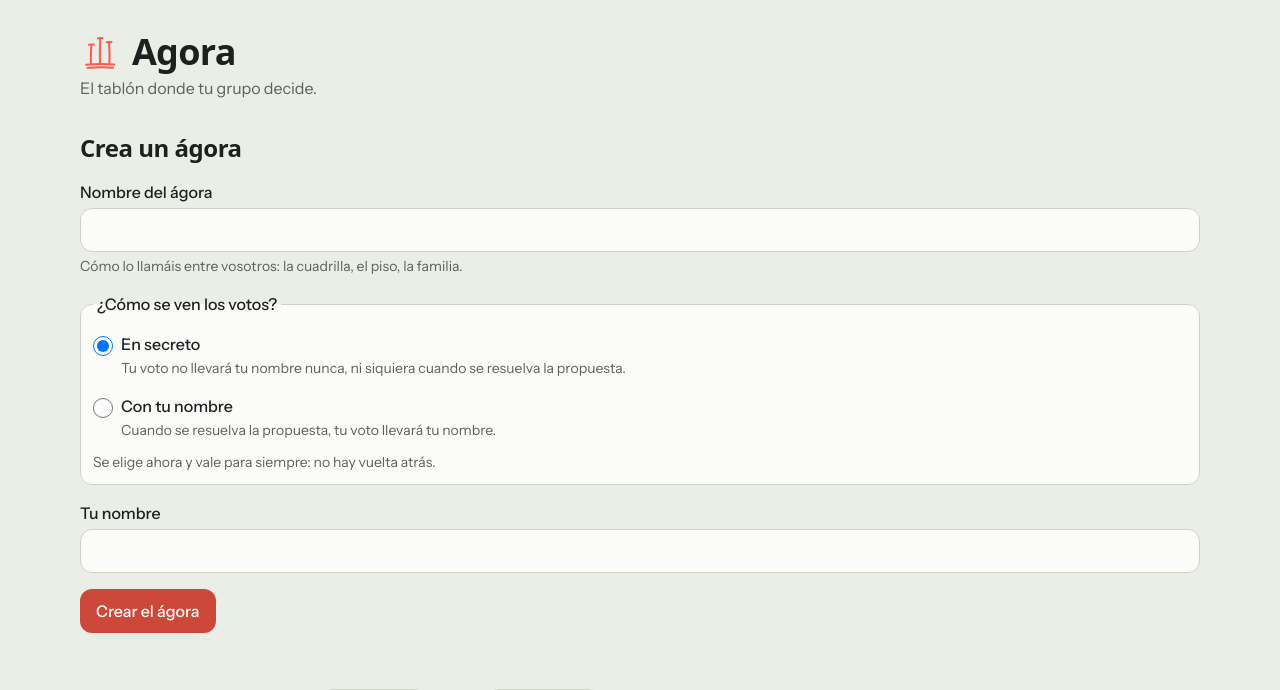
Scenario: App › no monta ninguna alerta en el formulario de crear ágora hasta que falla el envío
Click the button "Crear el ágora" at (148, 611), box top-left (80, 589), bottom-right (216, 633)
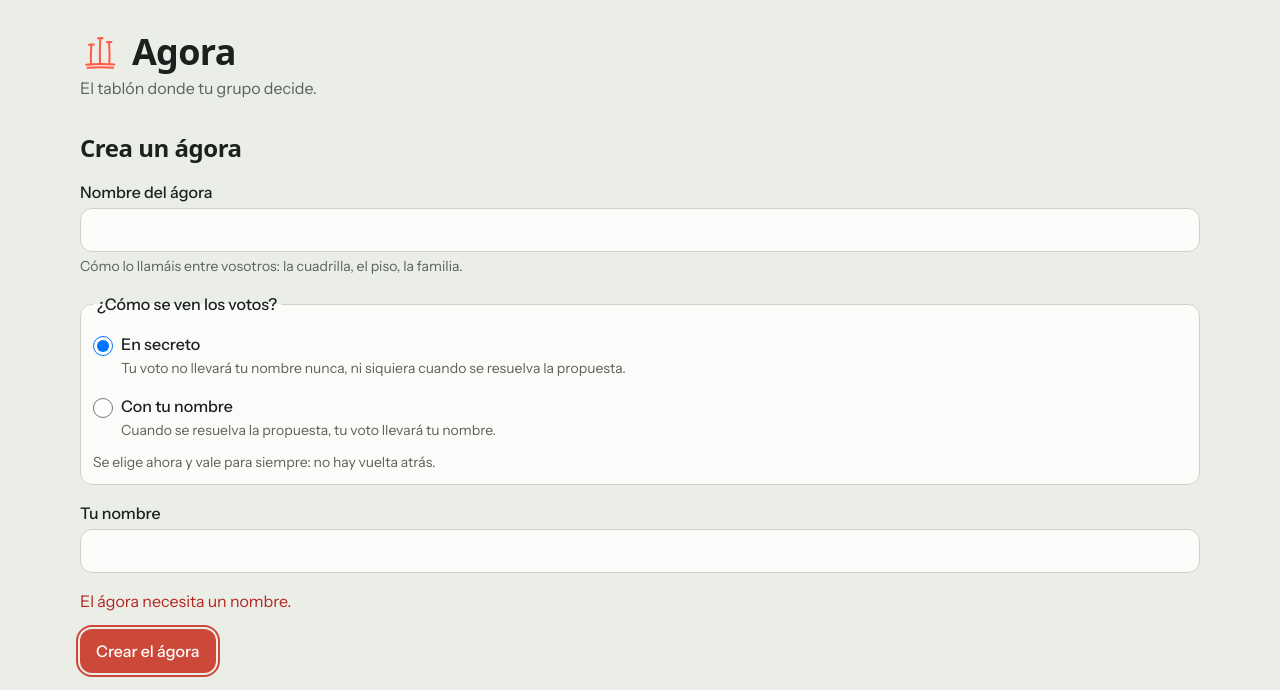
expect the message reads "El ágora necesita un nombre.": met, box top-left (80, 591), bottom-right (291, 611)
